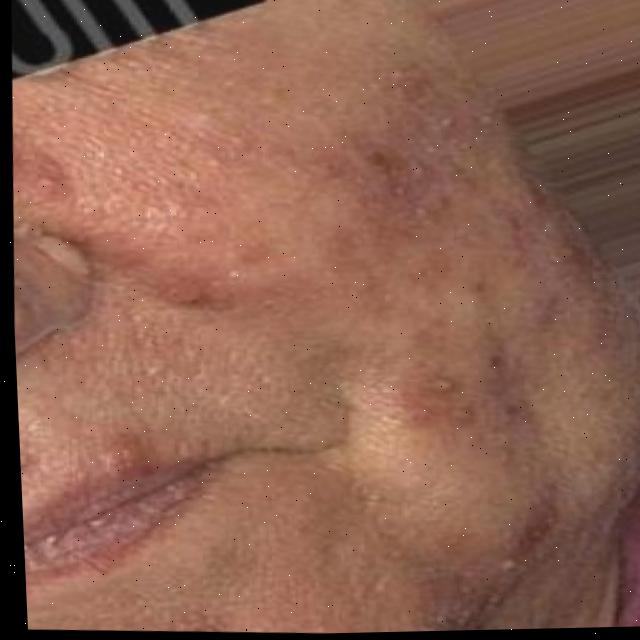Rosacea: (352, 174, 564, 478)
